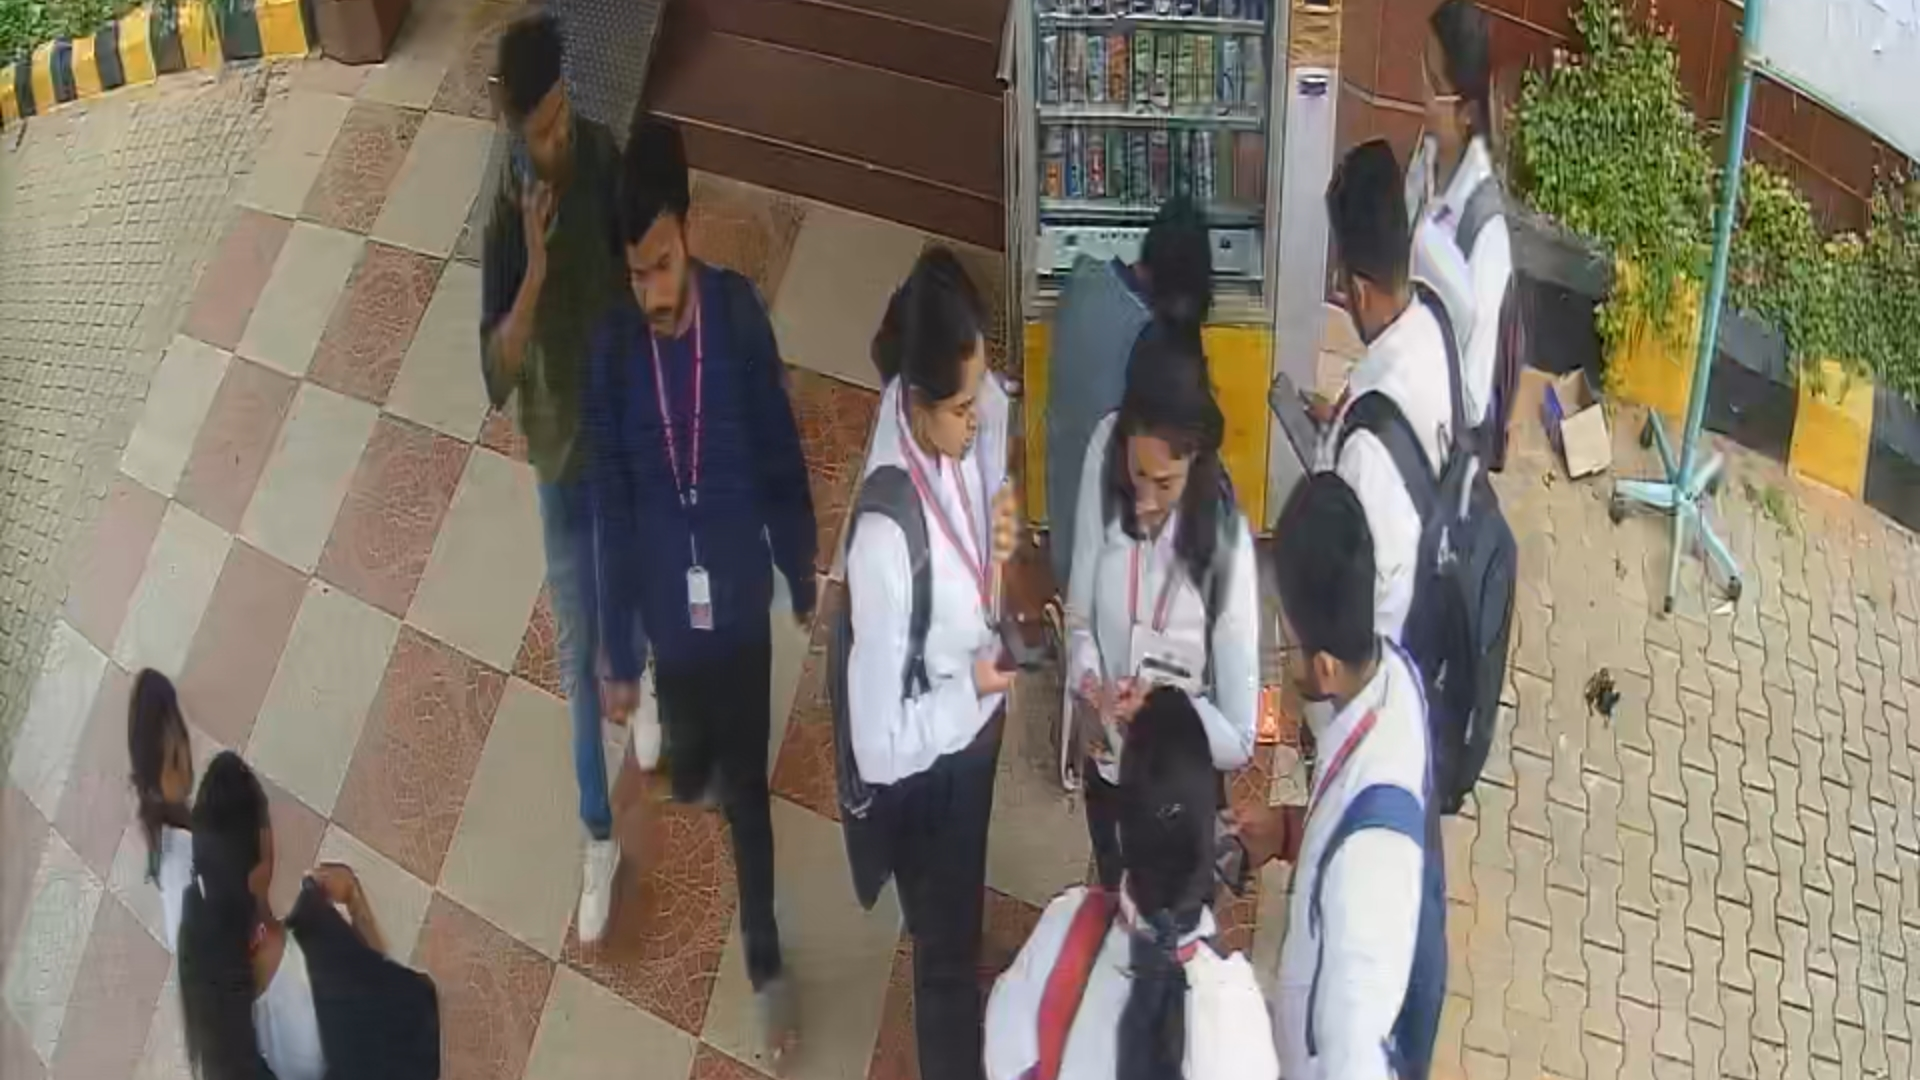intruder: (465, 12, 674, 935)
not intruder: (607, 109, 822, 1039)
